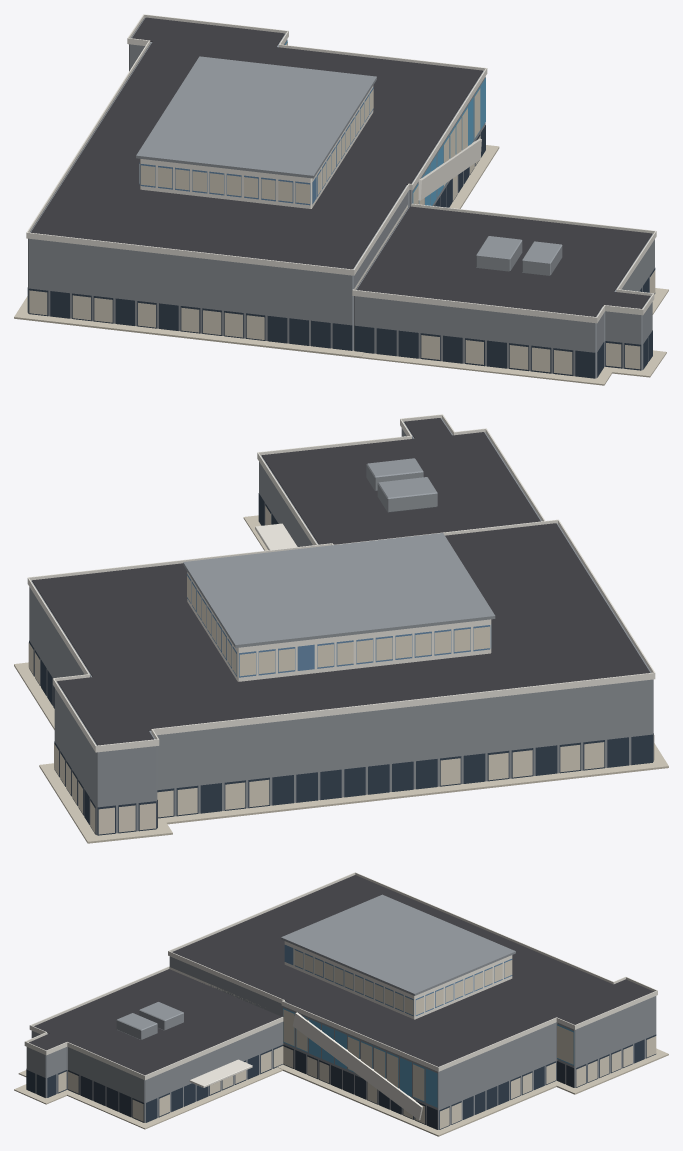
File: ybca-galleries.glb
The picture shows the model from 3 angles, top to bottom: view 1: azimuth 30°, elevation 25°; view 2: azimuth 150°, elevation 25°; view 3: azimuth 270°, elevation 25°; orthographic projection. The views are drawn at different scales.
Visible parts, largest first — view 1: ybca-galleries_body, ybca-galleries_night_glow; view 2: ybca-galleries_body, ybca-galleries_night_glow; view 3: ybca-galleries_body, ybca-galleries_night_glow.
Boxes of the visible parts, x1,y1,x2,y2 form: ybca-galleries_body: (14, 14, 668, 385); ybca-galleries_night_glow: (29, 42, 655, 374); ybca-galleries_body: (14, 414, 668, 843); ybca-galleries_night_glow: (28, 506, 654, 834); ybca-galleries_body: (14, 872, 668, 1136); ybca-galleries_night_glow: (58, 950, 656, 1128).
Bounding box in the file's own units: 83.89 × 17.3 × 113.
